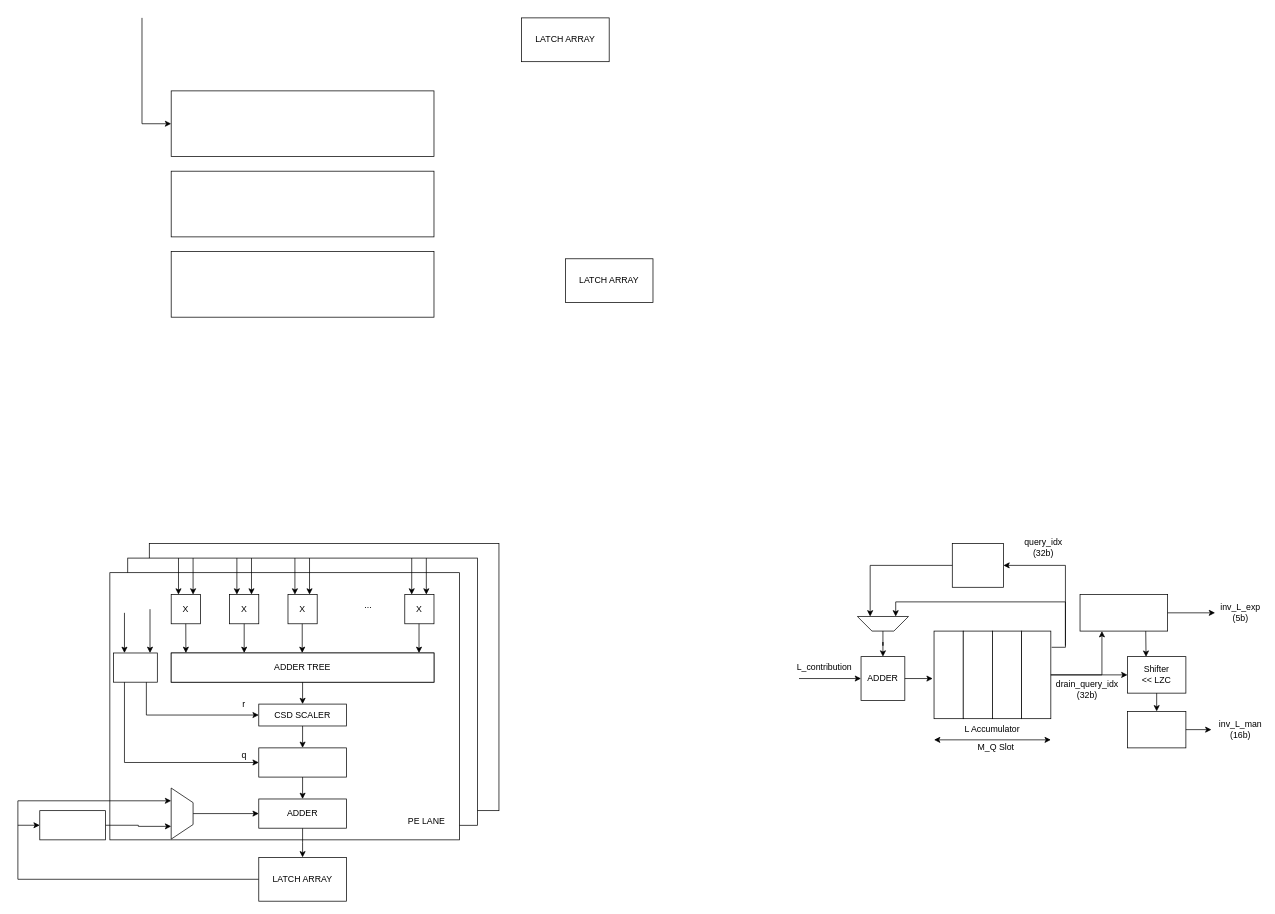
Image size: 1275x914. Some labels were removed from this diagram. Each missing label, with the box of its shape:
BIDIRECTION SHITER: (258, 747, 346, 777)
CSD-based Attention Scaler: (39, 810, 105, 840)
CSD-based Scaler: (952, 543, 1003, 587)
LUT 1/(1+f): (1127, 711, 1186, 748)
LZC: (1079, 594, 1168, 631)
SCALE ADDER: (113, 652, 157, 682)
